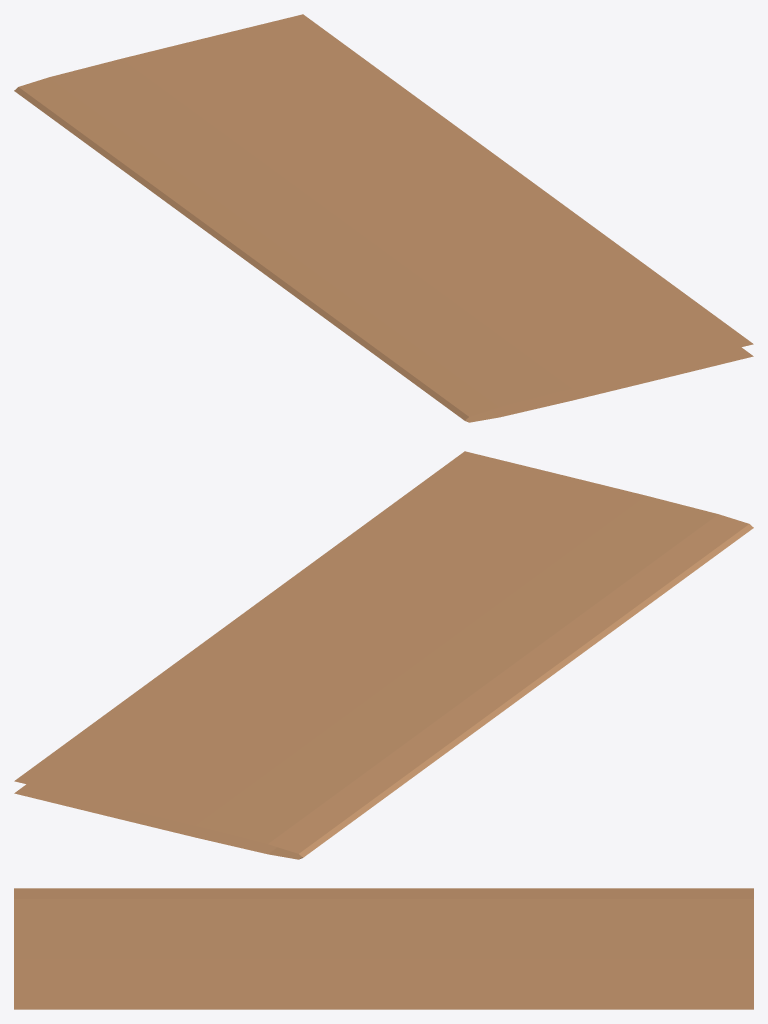
Rendered from mid_watered_soil_tile_1_2.fbx.
3 views of the same model, one above another, from view 1: azimuth 30°, elevation 25°; view 2: azimuth 150°, elevation 25°; view 3: azimuth 270°, elevation 25° (orthographic). The views are drawn at different scales.
Visible parts, largest first — view 1: _Watered_Corner_1_2; view 2: _Watered_Corner_1_2; view 3: _Watered_Corner_1_2.
Part boxes in pixels (x1=…): _Watered_Corner_1_2: x1=14, y1=14, x2=753, y2=422; _Watered_Corner_1_2: x1=14, y1=451, x2=753, y2=859; _Watered_Corner_1_2: x1=14, y1=888, x2=753, y2=1009.
Bounding box in the file's own units: 0.3696 × 0.998 × 0.0149.
